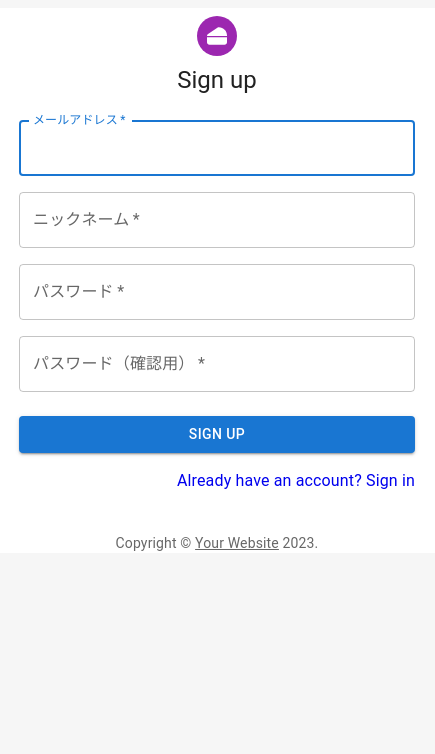
Test: サインアップ画面 › メールアドレス入力 › 形式チェック
Type "abc" into the field labelled "メールアドレス *" at [217, 148], box [19,120,415,176]
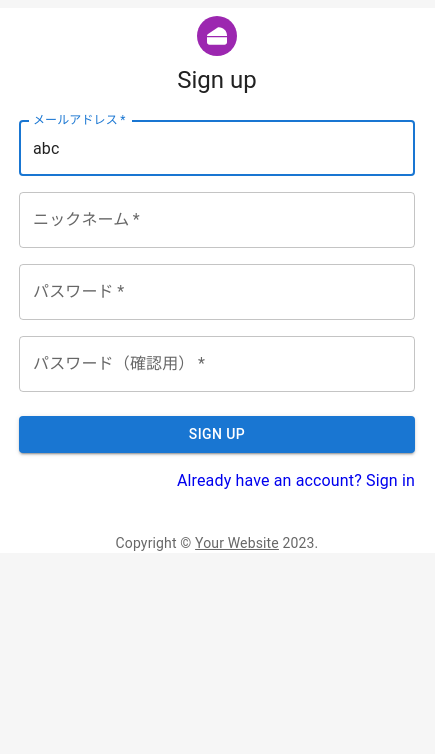
Click the button "Sign Up" at [217, 434], box [19,416,415,452]
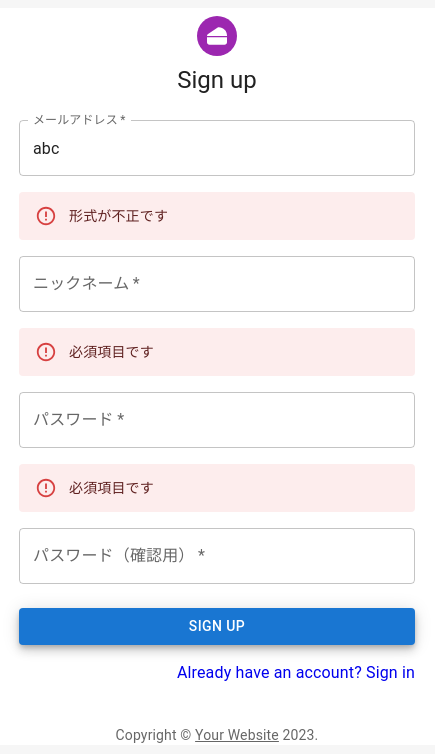
Expected: the text "形式が不正です" is shown, [69,208,168,224]
